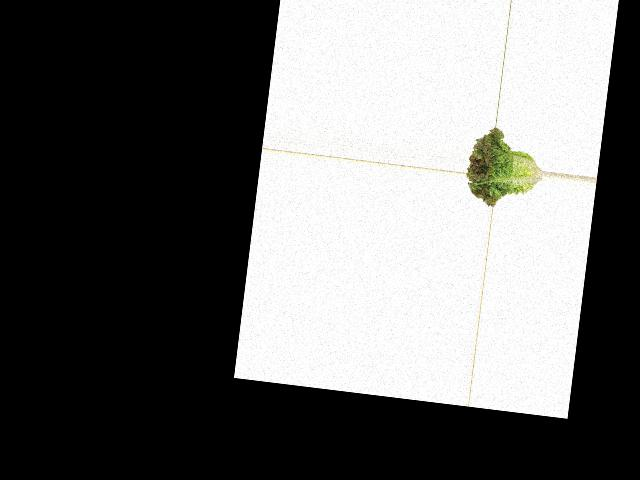lettuce: (463, 124, 548, 211)
